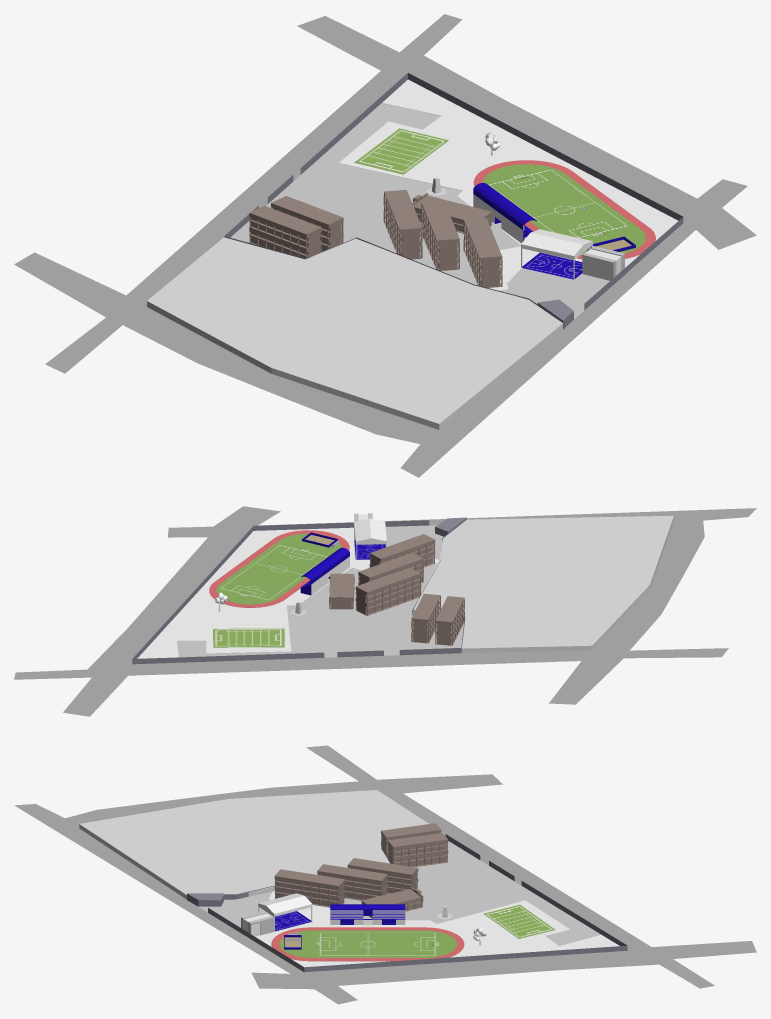
Rendered from mapa.glb.
The picture shows the model from 3 angles, top to bottom: view 1: azimuth 30°, elevation 25°; view 2: azimuth 150°, elevation 25°; view 3: azimuth 270°, elevation 25°; orthographic projection. The views are drawn at different scales.
Parts seen in each view (by area): view 1: Plane.013, calle, concreto, pasto_general, Circle.001, barda, Plane.011, Plane.002, Plane.009, Plane.008, Plane.007, Cube (+6 smaller); view 2: Plane.013, calle, concreto, pasto_general, Circle.001, barda, Plane.007, Plane.002, Circle, Plane.009, Plane.011, Plane.010 (+4 smaller); view 3: Plane.013, calle, concreto, pasto_general, Circle.001, barda, Plane.009, Plane.010, Circle, Plane.008, Plane.002, Plane.007 (+7 smaller).
Part boxes in pixels (bbox=[...]): Plane.013: bbox=[147, 237, 562, 429]; calle: bbox=[14, 14, 756, 477]; concreto: bbox=[230, 98, 609, 319]; pasto_general: bbox=[339, 79, 682, 290]; Circle.001: bbox=[483, 164, 645, 254]; barda: bbox=[224, 73, 683, 326]; Plane.011: bbox=[249, 205, 321, 258]; Plane.002: bbox=[354, 128, 448, 174]; Plane.009: bbox=[463, 218, 502, 287]; Plane.008: bbox=[421, 200, 459, 270]; Plane.007: bbox=[383, 190, 422, 259]; Cube: bbox=[473, 183, 536, 243]; Plane.013: bbox=[413, 515, 673, 652]; calle: bbox=[14, 506, 756, 716]; concreto: bbox=[177, 525, 463, 657]; pasto_general: bbox=[137, 527, 438, 664]; Circle.001: bbox=[216, 533, 341, 604]; barda: bbox=[132, 520, 464, 664]; Plane.007: bbox=[355, 567, 421, 615]; Plane.002: bbox=[213, 628, 284, 647]; Circle: bbox=[209, 530, 349, 607]; Plane.009: bbox=[369, 534, 435, 567]; Plane.011: bbox=[435, 596, 464, 645]; Plane.010: bbox=[411, 593, 440, 643]; Plane.013: bbox=[79, 790, 444, 899]; calle: bbox=[14, 745, 756, 1004]; concreto: bbox=[198, 841, 600, 945]; pasto_general: bbox=[249, 891, 626, 972]; Circle.001: bbox=[279, 930, 457, 957]; barda: bbox=[190, 834, 627, 972]; Plane.009: bbox=[274, 869, 344, 907]; Plane.010: bbox=[388, 832, 448, 867]; Circle: bbox=[271, 927, 464, 961]; Plane.008: bbox=[317, 864, 387, 900]; Plane.002: bbox=[483, 905, 555, 938]; Plane.007: bbox=[347, 858, 418, 893].
Size of the model in its own units: 0.9656 by 0.0413 by 1.17.
21 materials, 3 textured.
